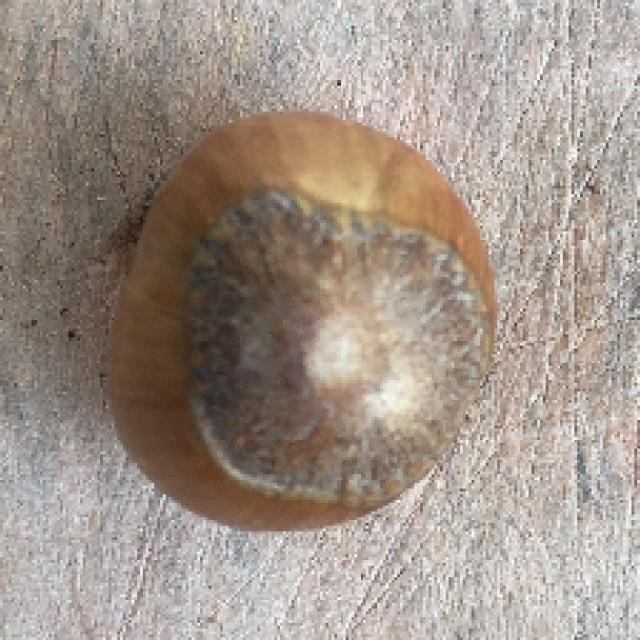damagedHazelnut: (97, 108, 502, 533)
